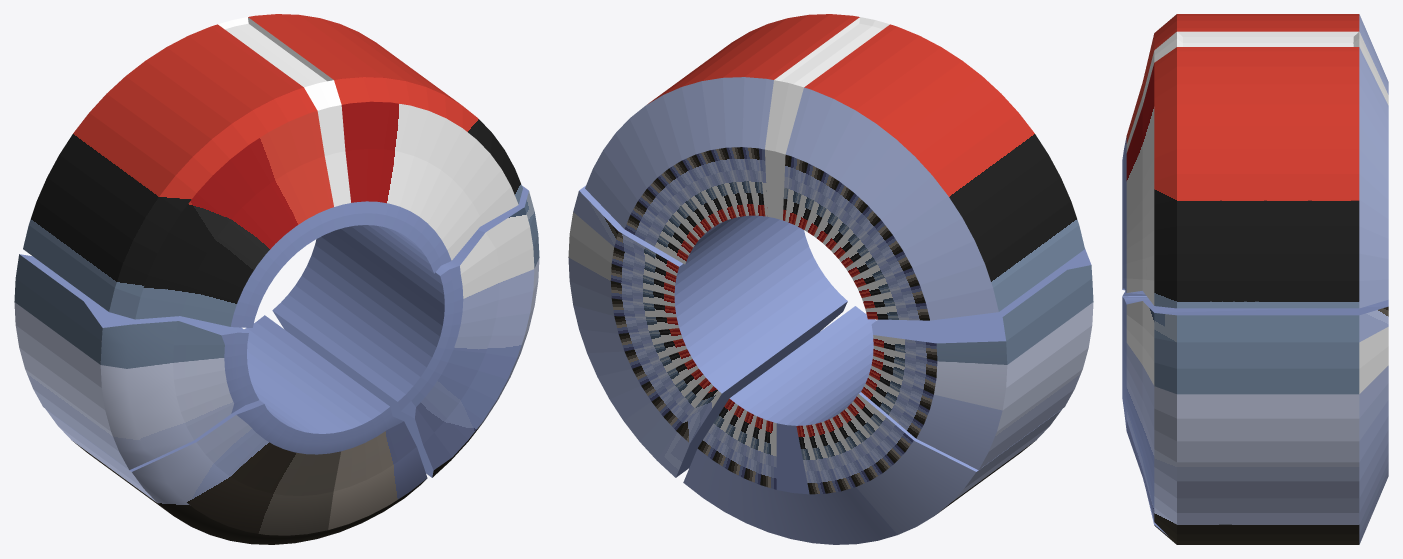
Rendered from PickyLocks_Asset_Lock-CRACKED.fbx.
3 renders of one model, left to right at view 1: azimuth 30°, elevation 25°; view 2: azimuth 150°, elevation 25°; view 3: azimuth 270°, elevation 25°, orthographic. The views are drawn at different scales.
Parts seen in each view (by area): view 1: polySurface3, polySurface1, polySurface6, polySurface5; view 2: polySurface3, polySurface1, polySurface6, polySurface5; view 3: polySurface3, polySurface1.
Boxes of the visible parts, x1,y1,x2,y2 form: polySurface3: (23,14,522,327); polySurface1: (272,185,539,477); polySurface6: (45,315,427,544); polySurface5: (14,254,258,469); polySurface3: (585,14,1084,320); polySurface1: (568,185,847,477); polySurface6: (683,306,1062,544); polySurface5: (861,249,1093,469); polySurface3: (1122,14,1388,308); polySurface1: (1122,297,1388,544).
Size of the model in its own units: 2.05 by 2.03 by 1.02.
